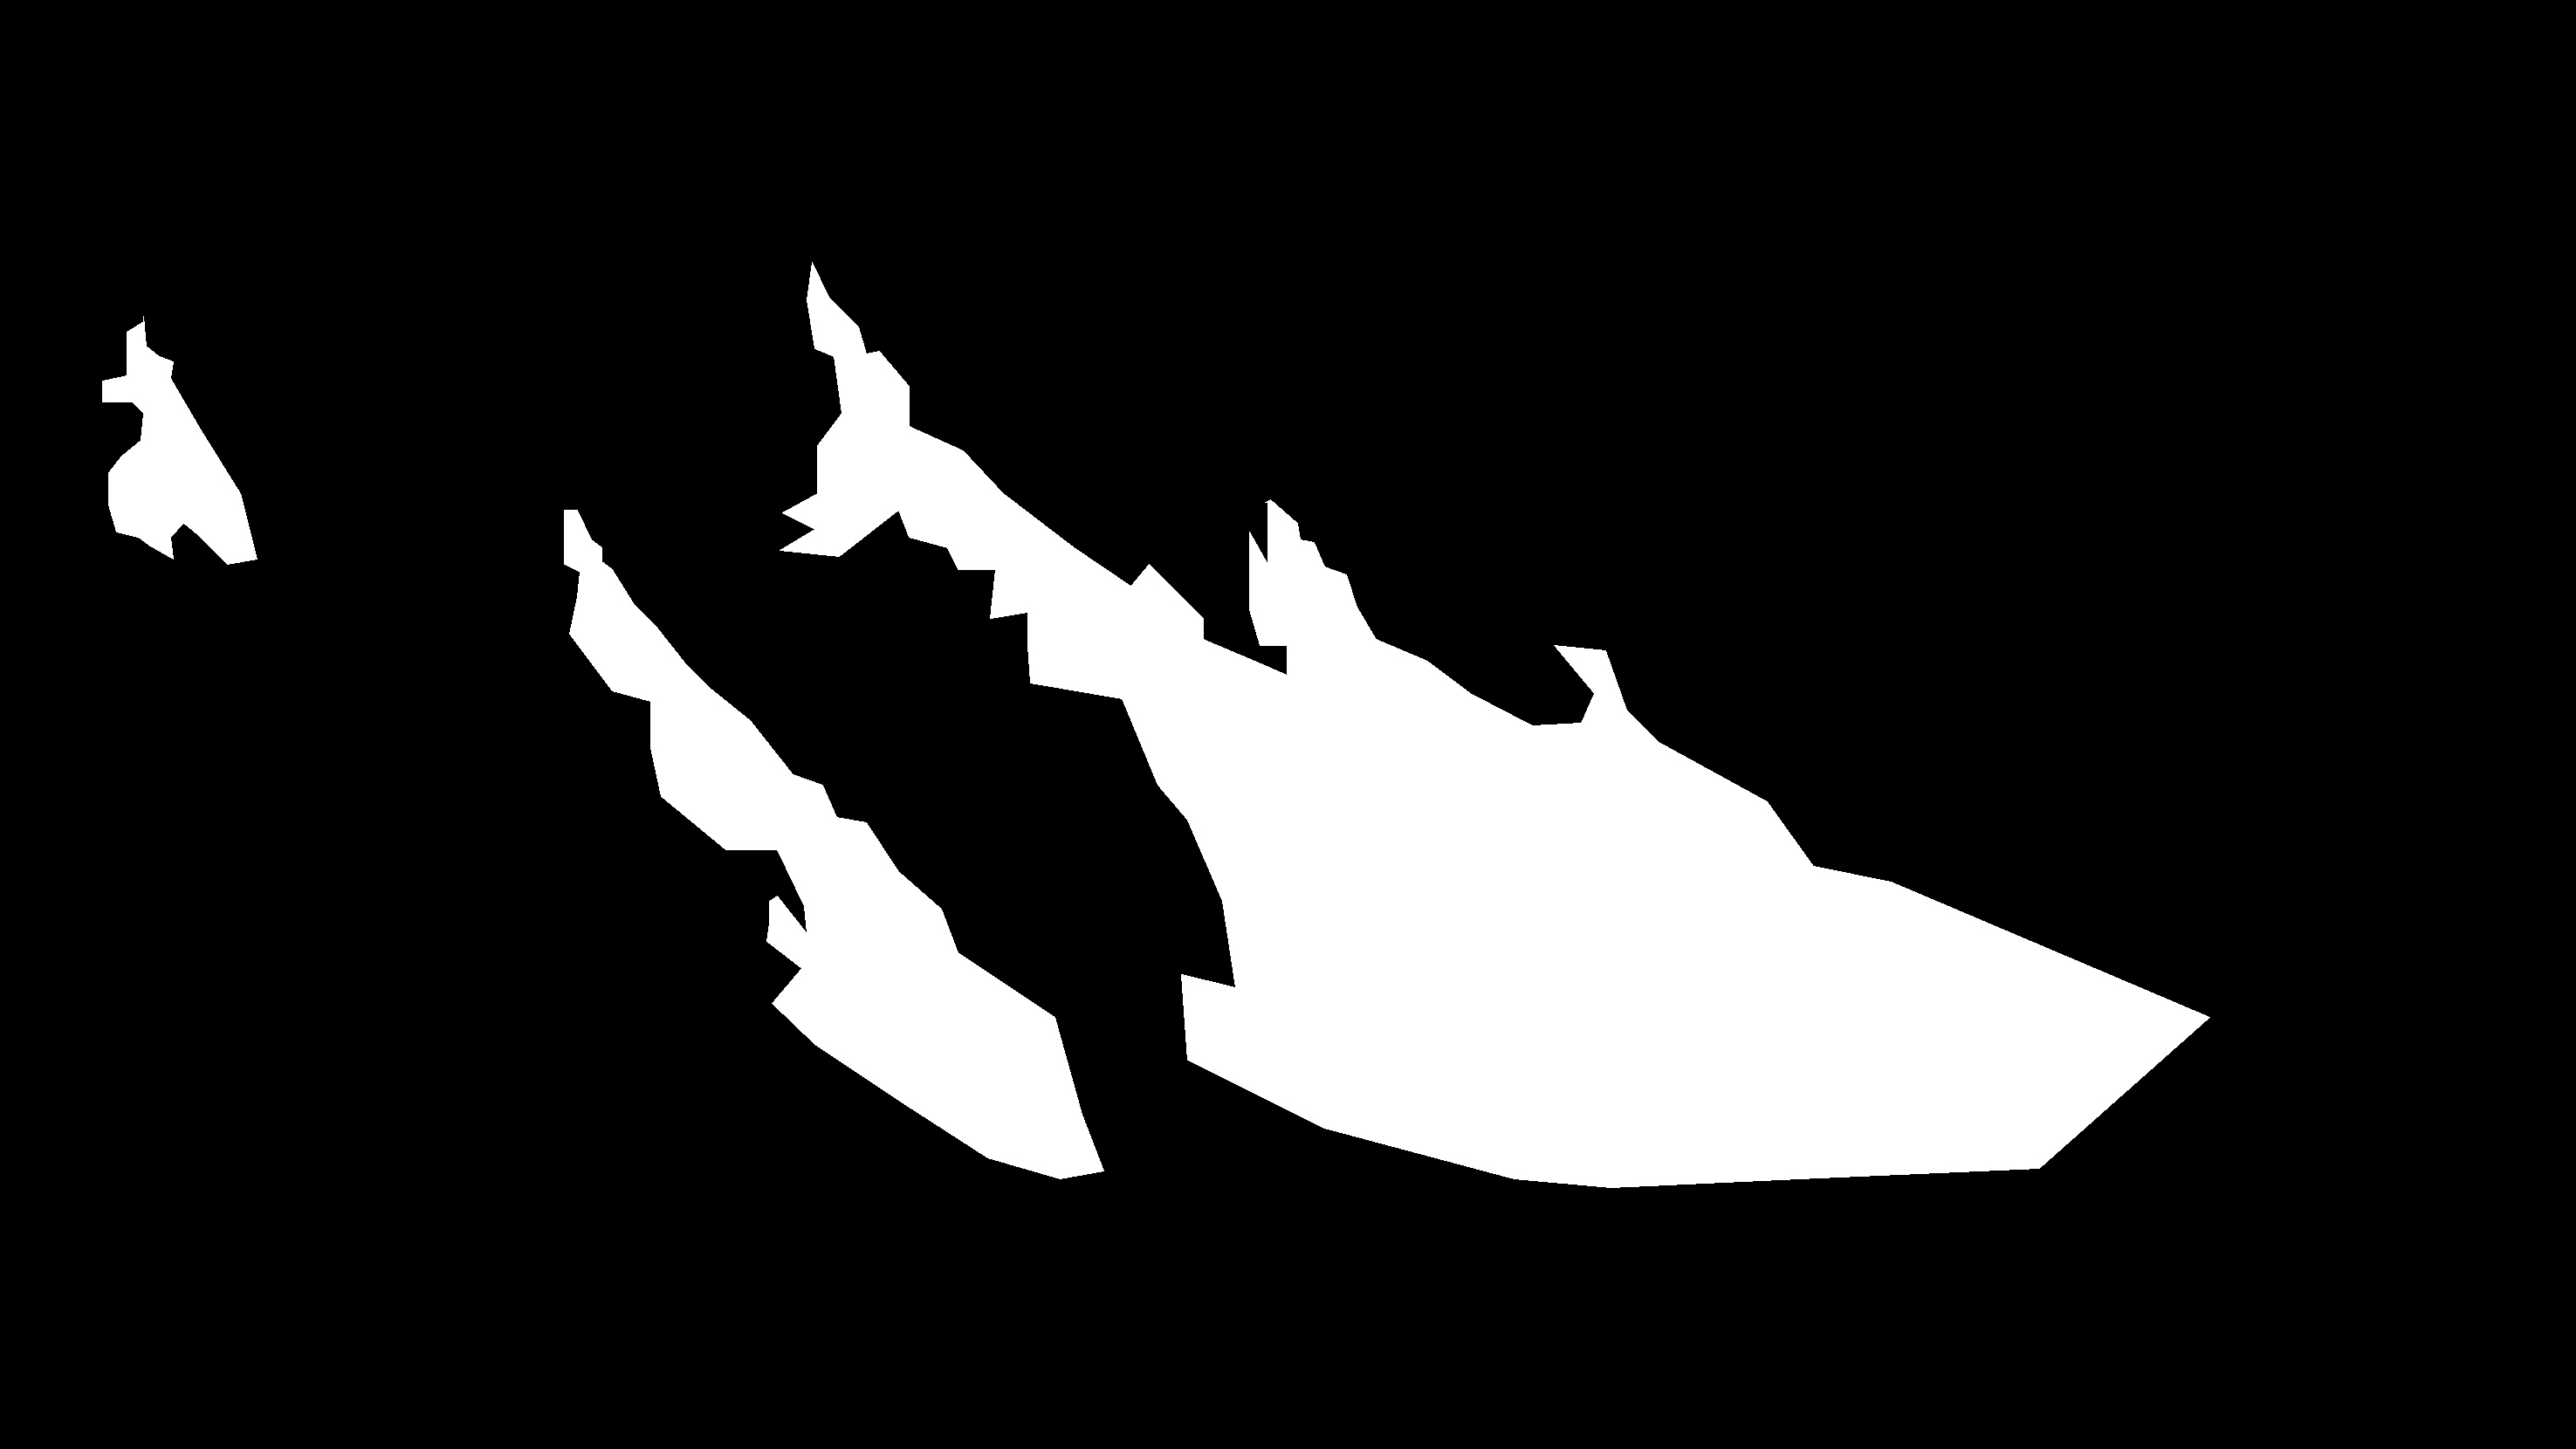Fire: (1217, 506, 1545, 878), (545, 511, 761, 835), (778, 265, 982, 550), (94, 311, 255, 573)
